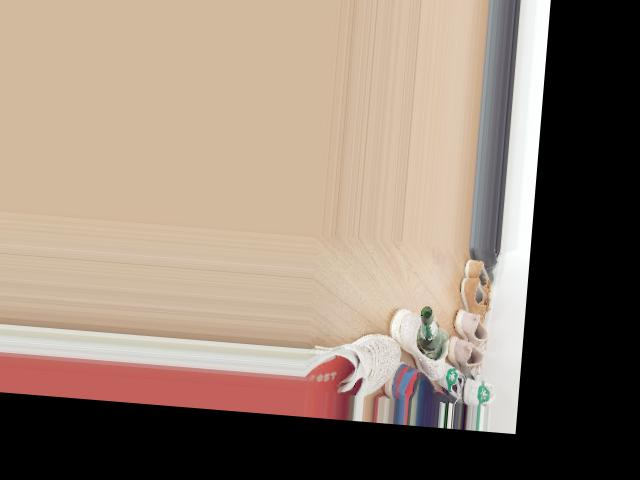beer: (416, 305, 445, 359)
